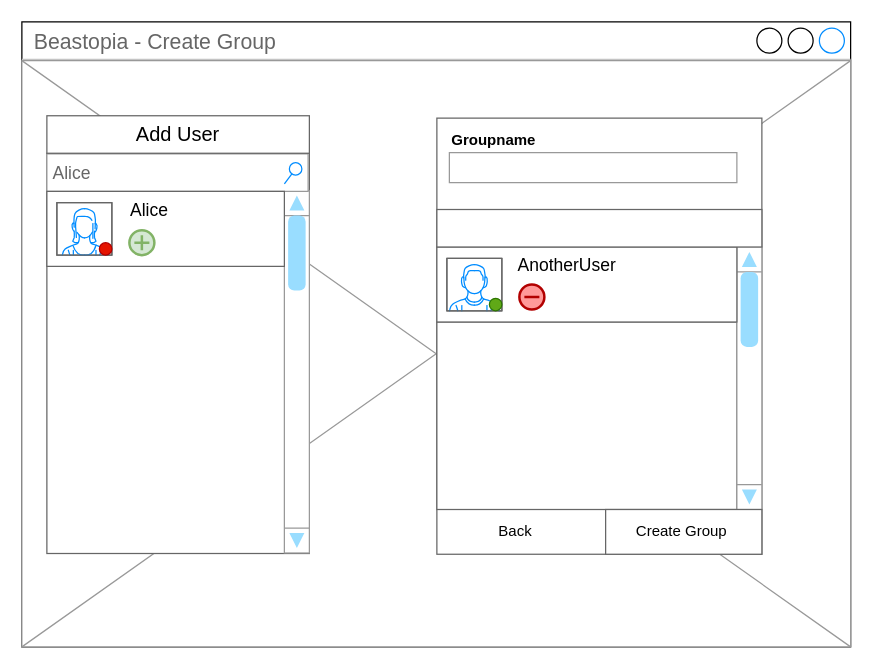
This 873x669 diagram has some shape labels left out. Here are the shapes that lost their labels. From the top down, the box of each, then its label:
(448, 151, 737, 183): Placeholder
(436, 208, 762, 247): Added Users
